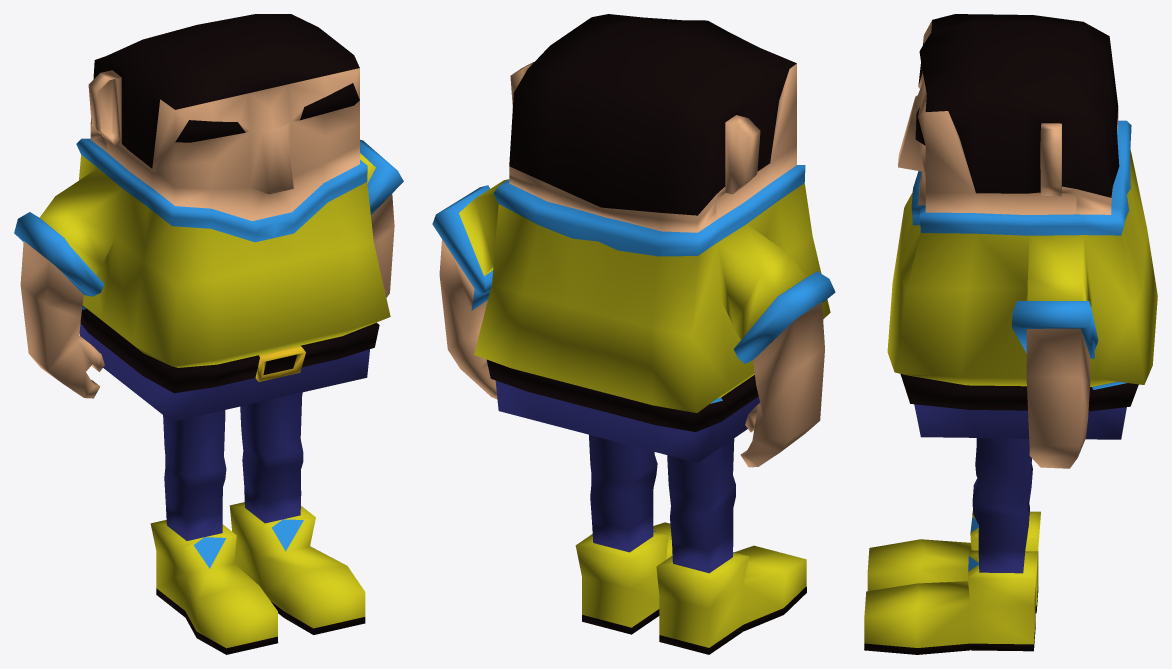
The model's file is gamejamChar01001Rev.fbx.
The picture shows the model from 3 angles, left to right: view 1: azimuth 30°, elevation 25°; view 2: azimuth 150°, elevation 25°; view 3: azimuth 270°, elevation 25°; orthographic projection. The views are drawn at different scales.
Parts seen in each view (by area): view 1: Box006; view 2: Box006; view 3: Box006.
Boxes of the visible parts, <box> form: Box006: <box>14,14,403,654</box>; Box006: <box>432,14,835,654</box>; Box006: <box>864,14,1157,654</box>.
Size of the model in its own units: 0.975 by 1.47 by 0.6783.
